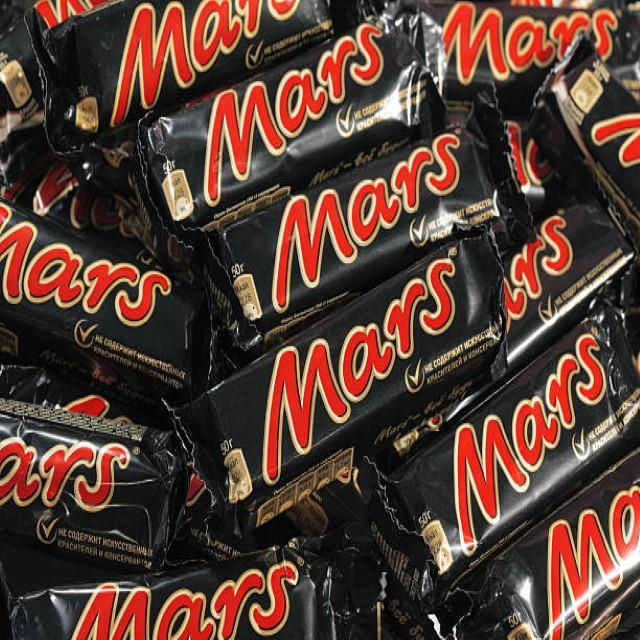mars_chocolate: (222, 208, 590, 477), (228, 83, 527, 307), (112, 13, 440, 164), (450, 264, 620, 554), (0, 208, 176, 426), (0, 561, 386, 639), (103, 13, 452, 62)
